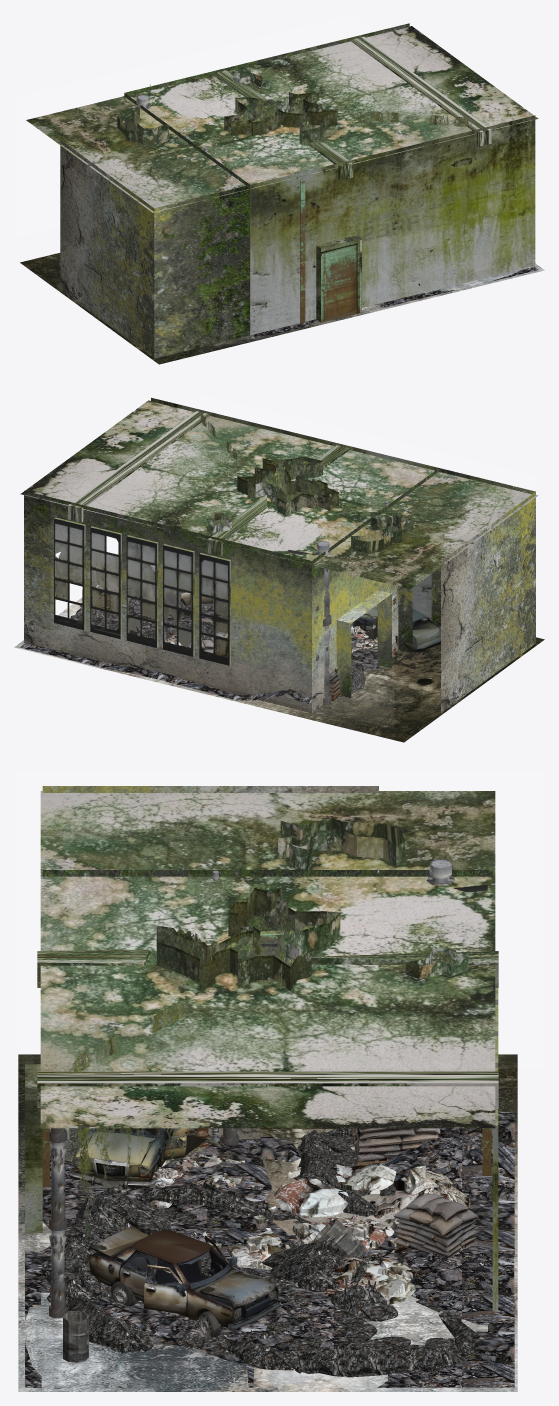
The model's file is an_abandoned_garage.glb.
The picture shows the model from 3 angles, top to bottom: view 1: azimuth 30°, elevation 25°; view 2: azimuth 150°, elevation 25°; view 3: azimuth 270°, elevation 25°; orthographic projection. The views are drawn at different scales.
Parts seen in each view (by area): view 1: Cube, Plane.001, Plane, Cube.004, Cube.003, Plane.003, Cube.005, Plane.014; view 2: Cube, Plane.001, Cube.001, Plane, Plane.003, Cube.004, node_0.004_Material.020_0, Cube.003, Cylinder.007, node_0.002_Material.015_0, node_0.005_Material.023_0; view 3: Plane.001, Plane.003, Plane, node_0_Material.015_0, node_0.003_Material.017_0, node_0.001_Material.016_0, node_0.002_Material.015_0, Cube, Cube.004, node_0.005_Material.023_0, node_0.004_Material.020_0, Plane.014 (+8 smaller).
Part boxes in pixels (box(x1,y1,x2,y2)): Cube: box(60, 23, 535, 358); Plane.001: box(26, 26, 538, 212); Plane: box(20, 253, 544, 364); Cube.004: box(350, 36, 491, 146); Cube.003: box(212, 70, 353, 180); Plane.003: box(250, 267, 538, 339); Cube.005: box(300, 180, 305, 323); Plane.014: box(368, 111, 471, 126); Cube: box(24, 397, 535, 712); Plane.001: box(20, 400, 538, 589); Cube.001: box(54, 517, 230, 665); Plane: box(14, 565, 544, 742); Plane.003: box(19, 603, 431, 704); Cube.004: box(68, 411, 210, 522); node_0.004_Material.020_0: box(351, 605, 440, 652); Cube.003: box(207, 445, 349, 556); Cylinder.007: box(315, 541, 331, 705); node_0.002_Material.015_0: box(70, 597, 176, 639); node_0.005_Material.023_0: box(188, 640, 352, 701); Plane.001: box(40, 791, 495, 1128); Plane.003: box(25, 1111, 514, 1387); Plane: box(18, 1054, 517, 1391); node_0_Material.015_0: box(41, 1182, 371, 1354); node_0.003_Material.017_0: box(88, 1225, 279, 1337); node_0.001_Material.016_0: box(193, 1164, 470, 1304); node_0.002_Material.015_0: box(227, 1275, 479, 1377); Cube: box(25, 786, 493, 1232); Cube.004: box(37, 1071, 498, 1108); node_0.005_Material.023_0: box(351, 1128, 478, 1257); node_0.004_Material.020_0: box(68, 1128, 224, 1189); Plane.014: box(68, 999, 187, 1247).
Bounding box in the file's own units: 6.28 × 2.71 × 4.18.
19 materials, 18 textured.
